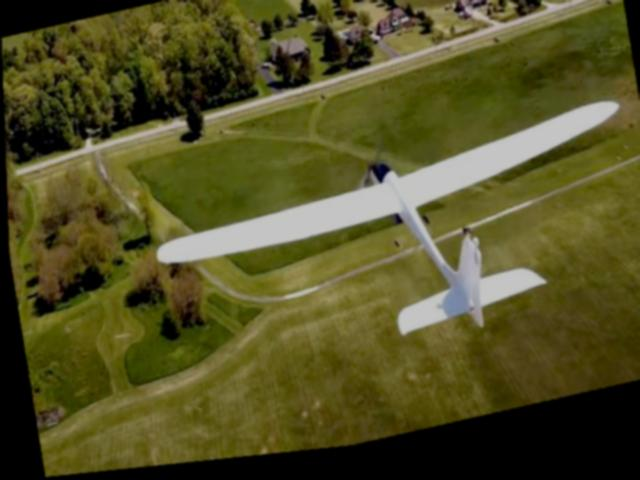iha: (144, 110, 640, 394)
